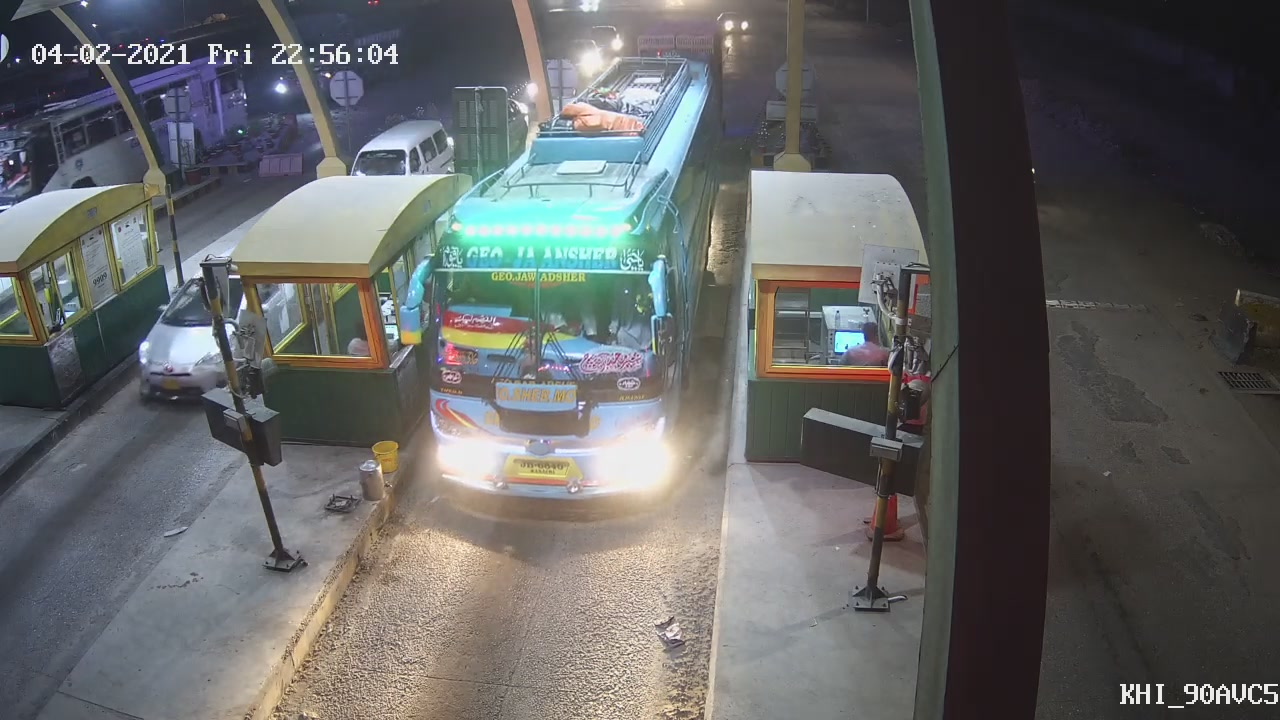F4: (400, 120, 712, 513)
